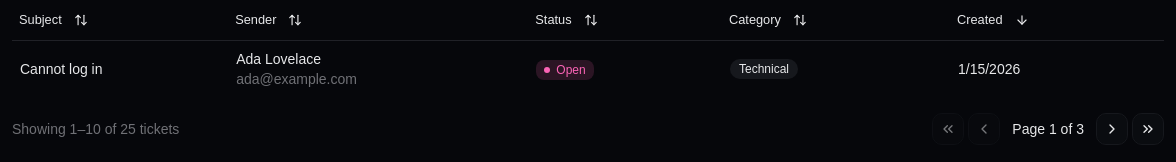
Test case: TicketsTable › moves through pages via Next/Previous/First and updates the shown range
Check: the link "Cannot log in" is shown, box x1=20 y1=60 x2=102 y2=76
Check: the text "Showing 1–10 of 25 tickets" is shown, box x1=12 y1=118 x2=179 y2=138
Click the button named "Next page".
click(1112, 128)  # box x1=1096 y1=112 x2=1128 y2=144
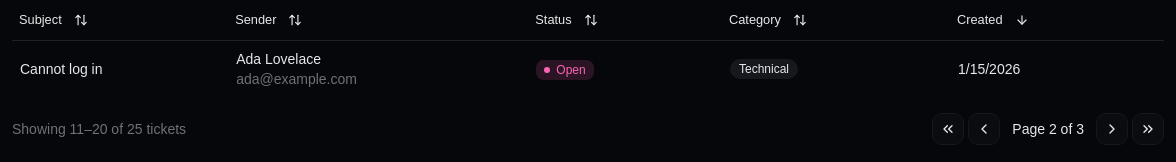
Check: the text "Showing 11–20 of 25 tickets" is shown, box x1=12 y1=118 x2=186 y2=138
Check: the text "Page 2 of 3" is shown, box x1=1012 y1=120 x2=1084 y2=136
Click the button named "Previous page".
click(984, 128)  # box x1=968 y1=112 x2=1000 y2=144
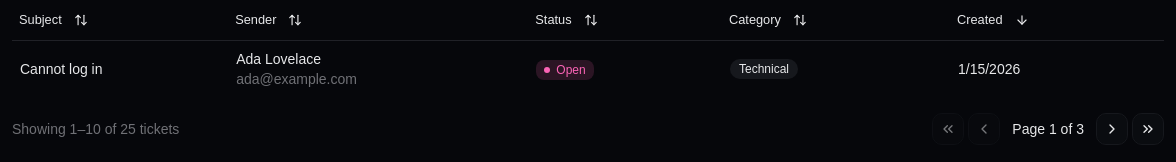
Check: the text "Showing 1–10 of 25 tickets" is shown, box x1=12 y1=118 x2=179 y2=138
Click the button named "Last page".
click(1148, 128)  # box x1=1132 y1=112 x2=1164 y2=144
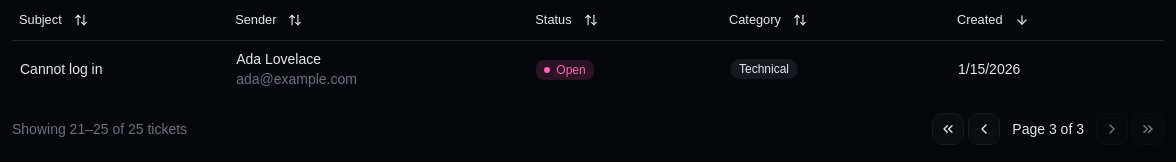
Check: the text "Showing 21–25 of 25 tickets" is shown, box x1=12 y1=118 x2=187 y2=138
Click the button named "First page".
click(948, 128)  # box x1=932 y1=112 x2=964 y2=144
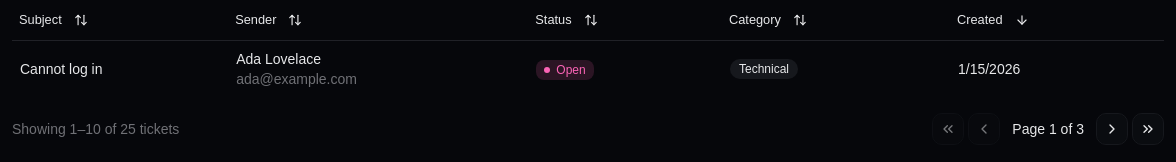
Check: the text "Page 1 of 3" is shown, box x1=1012 y1=120 x2=1084 y2=136
